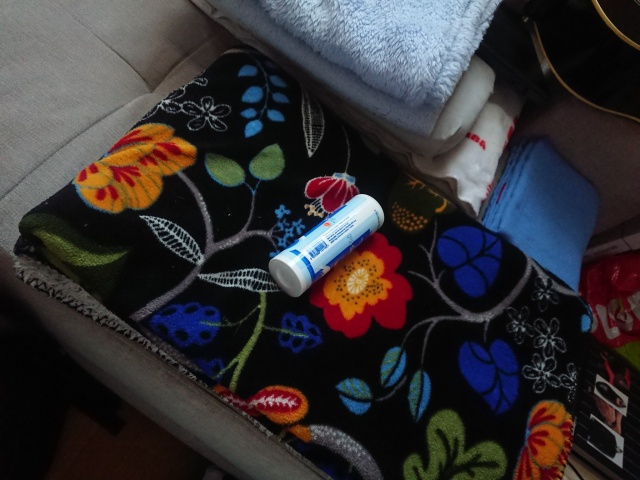Solana Pag Fine Sea Salt 250g: (265, 190, 388, 300)
